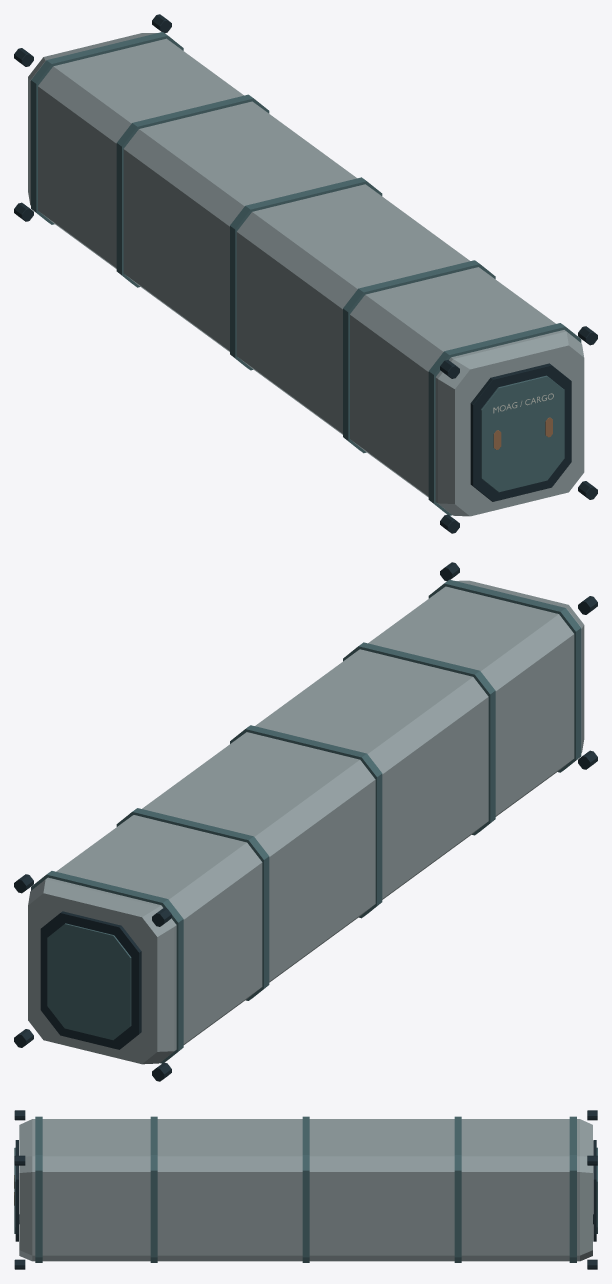
File: SF-02_flight_capsule.glb
The picture shows the model from 3 angles, top to bottom: view 1: azimuth 30°, elevation 25°; view 2: azimuth 150°, elevation 25°; view 3: azimuth 270°, elevation 25°; orthographic projection. The views are drawn at different scales.
Visible parts, largest first — view 1: SF-02_flight_capsule; view 2: SF-02_flight_capsule; view 3: SF-02_flight_capsule.
Boxes of the visible parts, x1,y1,x2,y2 form: SF-02_flight_capsule: (14, 14, 597, 533); SF-02_flight_capsule: (14, 562, 597, 1081); SF-02_flight_capsule: (14, 1110, 597, 1269).
Size of the model in its own units: 2.44 by 2.6 by 12.22.
